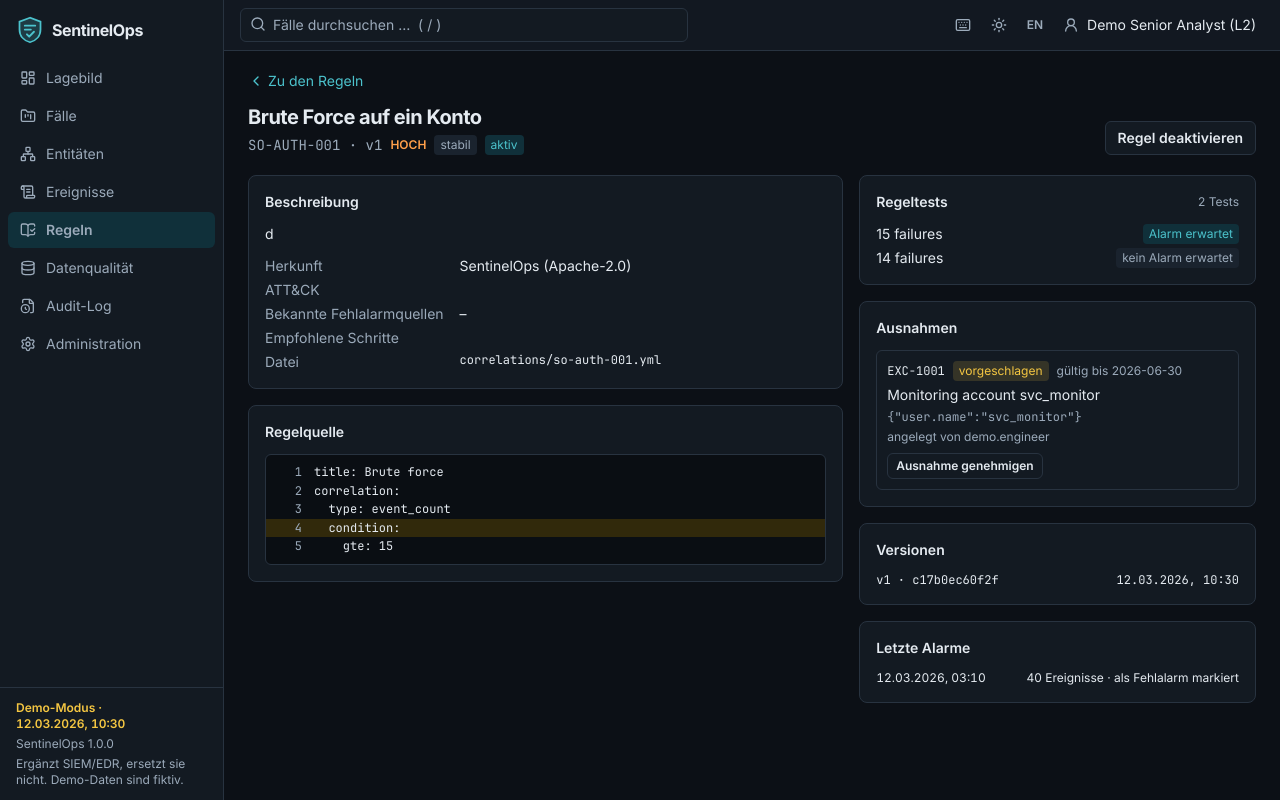
Test: rules › reports a four-eyes refusal when approving an own exception
Click the button "Ausnahme genehmigen": click(965, 466) [887, 453, 1043, 479]
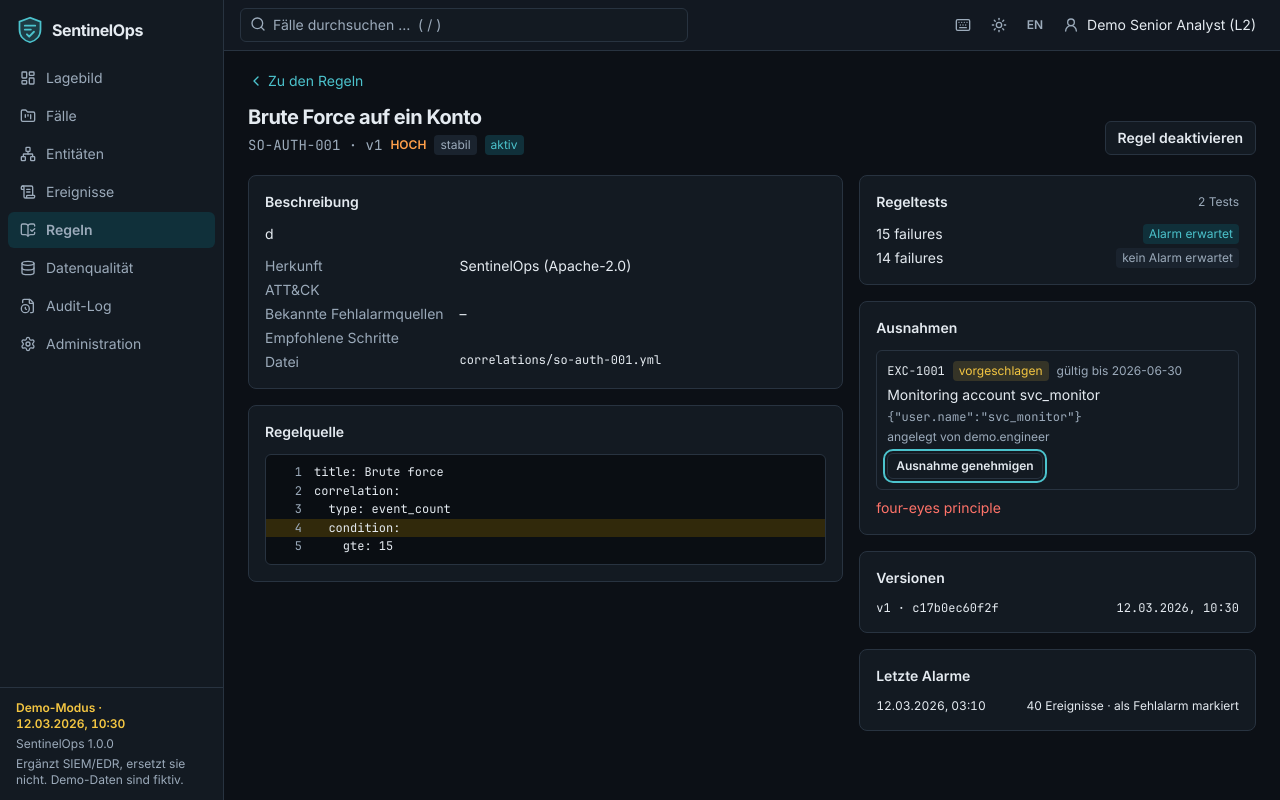
Expected: the text "four-eyes principle" is shown, [876, 499, 1001, 516]
